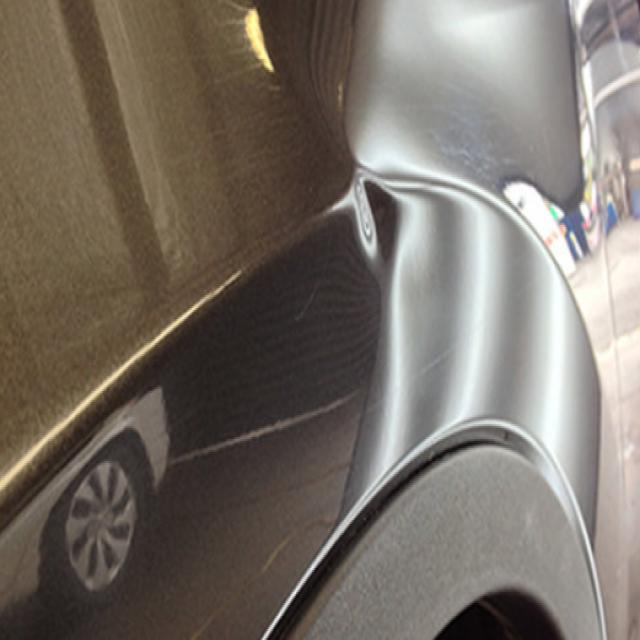dents: (329, 153, 439, 306)
